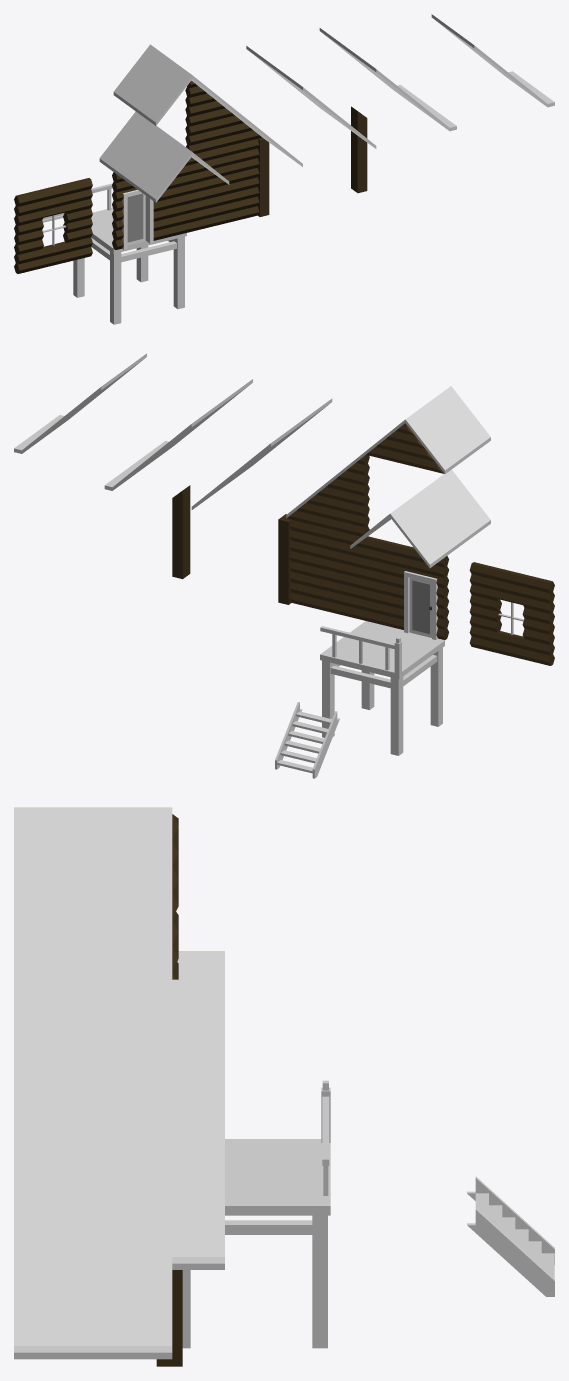
File: Cabin.fbx
3 views of the same model, one above another, from view 1: azimuth 30°, elevation 25°; view 2: azimuth 150°, elevation 25°; view 3: azimuth 270°, elevation 25° (orthographic). The views are drawn at different scales.
Parts seen in each view (by area): view 1: Log Cabin Window, Log Cabin Wall, Roof 5, Foundation, Roof 6, Angled Wall, Log Cabin Doorway, Column 2, Roof 4, Roof 3, Door 1, Column (+3 smaller); view 2: Foundation, Log Cabin Window, Log Cabin Wall, Roof 5, Log Cabin Doorway, Roof 6, Angled Wall, Stairs, Angled Wall 2, Column 2, Roof 4, Door 1 (+5 smaller); view 3: Roof 3, Roof 4, Roof 6, Roof 2, Foundation, Roof 1, Stairs, Roof 5, Column 2, Railing, Angled Wall 2.
Boxes of the visible parts, x1=… form: Log Cabin Window: x1=14, y1=178, x2=92, y2=273; Log Cabin Wall: x1=189, y1=138, x2=260, y2=232; Roof 5: x1=99, y1=111, x2=229, y2=202; Foundation: x1=73, y1=207, x2=186, y2=324; Roof 6: x1=113, y1=44, x2=229, y2=125; Angled Wall: x1=185, y1=81, x2=261, y2=153; Log Cabin Doorway: x1=112, y1=159, x2=190, y2=249; Column 2: x1=351, y1=106, x2=367, y2=193; Roof 4: x1=319, y1=28, x2=456, y2=131; Roof 3: x1=431, y1=14, x2=554, y2=107; Door 1: x1=127, y1=193, x2=145, y2=245; Column: x1=257, y1=137, x2=269, y2=216; Foundation: x1=320, y1=621, x2=444, y2=755; Log Cabin Window: x1=469, y1=562, x2=554, y2=665; Log Cabin Wall: x1=289, y1=520, x2=365, y2=620; Roof 5: x1=350, y1=469, x2=490, y2=568; Log Cabin Doorway: x1=364, y1=536, x2=448, y2=639; Roof 6: x1=365, y1=386, x2=490, y2=473; Angled Wall: x1=287, y1=455, x2=369, y2=536; Stairs: x1=275, y1=702, x2=339, y2=778; Angled Wall 2: x1=366, y1=423, x2=444, y2=473; Column 2: x1=172, y1=485, x2=190, y2=579; Roof 4: x1=104, y1=379, x2=252, y2=490; Door 1: x1=409, y1=577, x2=431, y2=637; Roof 3: x1=14, y1=1135, x2=172, y2=1359; Roof 4: x1=14, y1=1046, x2=224, y2=1269; Roof 6: x1=14, y1=807, x2=172, y2=912; Roof 2: x1=14, y1=979, x2=224, y2=1046; Foundation: x1=182, y1=1139, x2=330, y2=1348; Roof 1: x1=14, y1=912, x2=172, y2=979; Stairs: x1=467, y1=1176, x2=554, y2=1296; Roof 5: x1=177, y1=951, x2=224, y2=979; Column 2: x1=156, y1=1270, x2=182, y2=1366; Railing: x1=322, y1=1096, x2=329, y2=1195; Angled Wall 2: x1=172, y1=814, x2=178, y2=918.
Size of the model in its own units: 2030 by 1063 by 1025.
